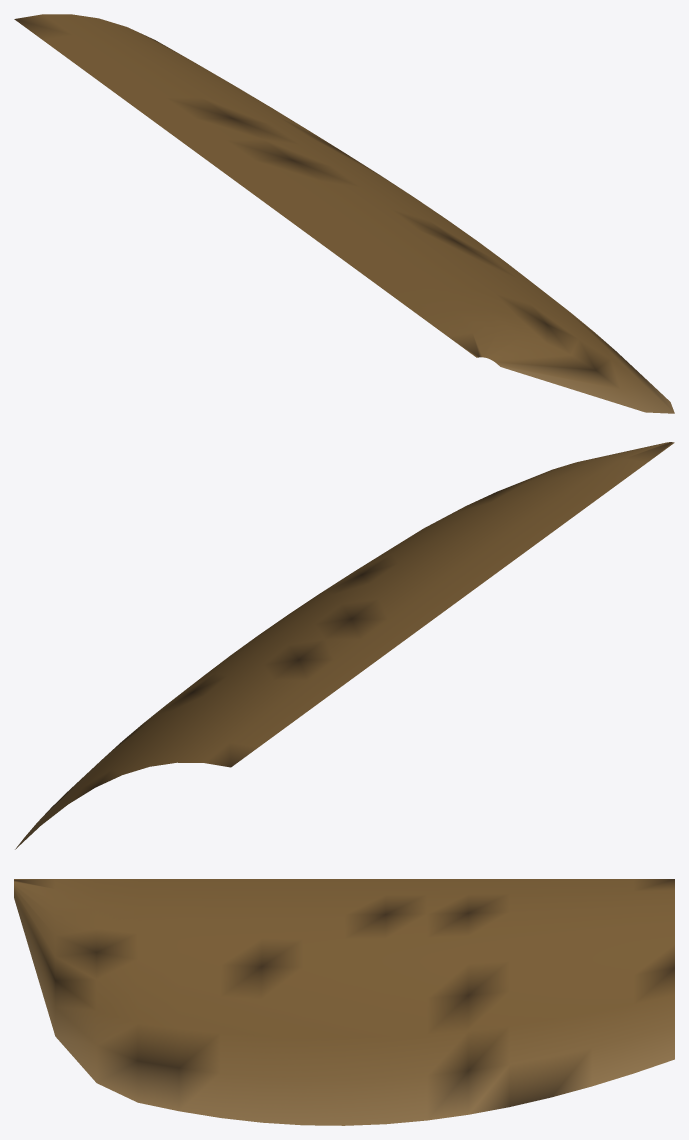
File: Kirigirisu_Wing.fbx
3 views of the same model, one above another, from view 1: azimuth 30°, elevation 25°; view 2: azimuth 150°, elevation 25°; view 3: azimuth 270°, elevation 25° (orthographic). The views are drawn at different scales.
Parts seen in each view (by area): view 1: Kirigirisu_Wing; view 2: Kirigirisu_Wing; view 3: Kirigirisu_Wing.
Boxes of the visible parts, x1=… form: Kirigirisu_Wing: x1=14, y1=14, x2=674, y2=413; Kirigirisu_Wing: x1=15, y1=442, x2=674, y2=849; Kirigirisu_Wing: x1=14, y1=879, x2=674, y2=1125.
Size of the model in its own units: 0.17 by 0.102 by 0.44.
